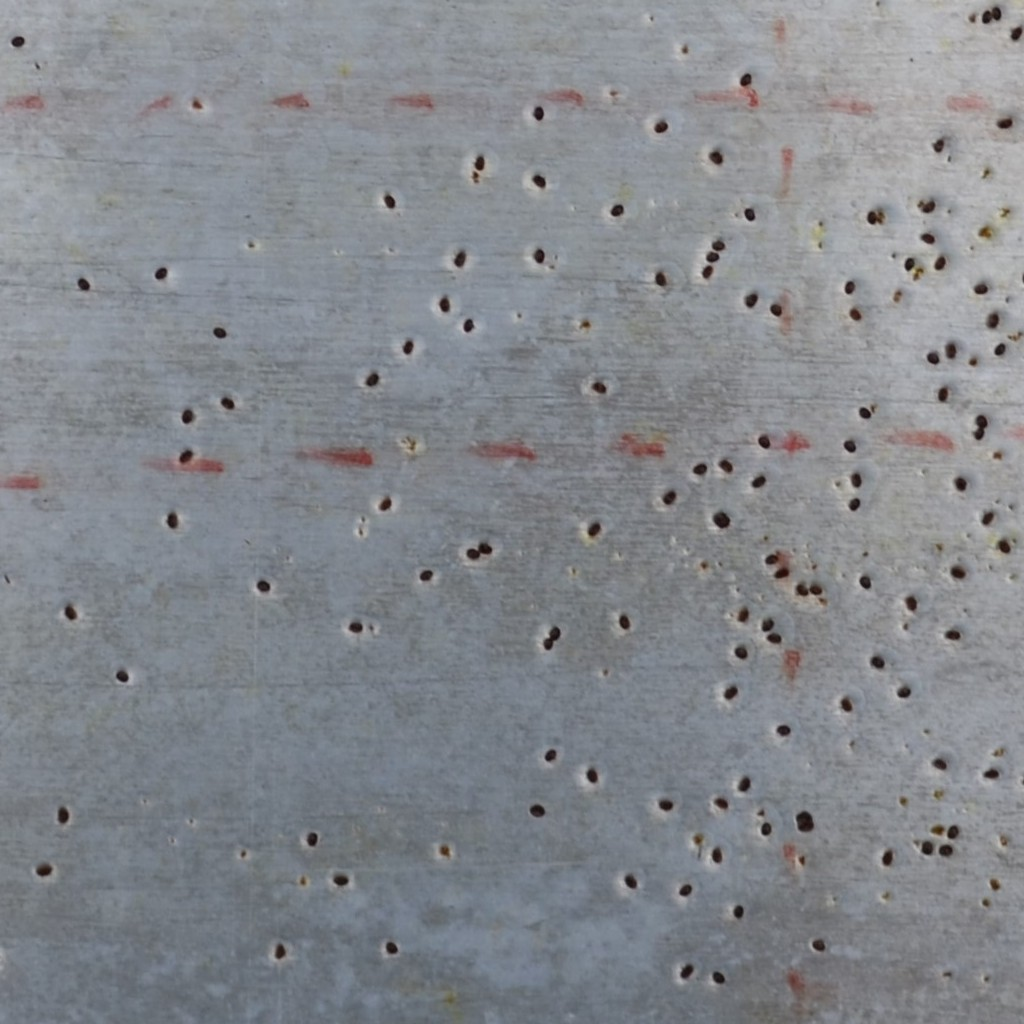varroa: (331, 864, 352, 891), (33, 856, 55, 881), (710, 508, 733, 531), (362, 366, 383, 388), (165, 508, 182, 534), (586, 517, 604, 541), (660, 488, 681, 508), (527, 801, 549, 820), (55, 802, 71, 828), (616, 610, 634, 633), (62, 600, 79, 624), (656, 796, 676, 816), (253, 575, 273, 595), (977, 507, 998, 526), (716, 455, 735, 476), (588, 378, 609, 397), (721, 682, 742, 701), (76, 274, 95, 295), (740, 203, 758, 225), (709, 966, 727, 988), (622, 868, 639, 891), (918, 836, 934, 860), (748, 470, 767, 490), (765, 628, 784, 648), (734, 772, 753, 792), (417, 564, 437, 583), (219, 394, 238, 414), (112, 666, 132, 685), (731, 642, 752, 660), (180, 406, 198, 427), (985, 308, 1002, 330), (742, 288, 759, 310), (707, 842, 724, 864), (936, 840, 955, 859), (707, 146, 726, 165), (690, 459, 709, 478), (7, 32, 26, 51), (918, 229, 938, 247), (949, 562, 969, 580), (930, 754, 948, 774), (210, 323, 230, 341), (347, 617, 367, 635), (738, 68, 755, 89), (794, 807, 815, 824), (653, 267, 669, 289), (531, 170, 547, 192), (452, 246, 468, 268), (531, 100, 545, 125), (839, 694, 854, 717), (762, 548, 781, 566), (677, 880, 695, 899), (994, 116, 1014, 133), (151, 264, 171, 281), (931, 253, 947, 274), (942, 626, 963, 642), (708, 794, 729, 810), (583, 763, 599, 784), (473, 149, 487, 173), (880, 847, 895, 869), (273, 940, 288, 962), (759, 616, 777, 634), (775, 720, 793, 738), (547, 623, 565, 641), (869, 651, 886, 670), (609, 201, 626, 220), (809, 936, 828, 953), (678, 961, 695, 980), (542, 746, 561, 763), (904, 591, 918, 614), (794, 820, 817, 834), (921, 196, 937, 216), (756, 431, 772, 451), (771, 566, 791, 582), (477, 539, 497, 555), (377, 493, 392, 514), (943, 339, 957, 361), (849, 469, 863, 491), (305, 828, 319, 850), (973, 411, 991, 428), (894, 682, 911, 700), (733, 606, 751, 623), (846, 495, 862, 514), (178, 447, 197, 463), (843, 436, 858, 456), (768, 299, 783, 319), (731, 901, 746, 921), (437, 294, 452, 314), (401, 334, 415, 355), (996, 538, 1013, 555), (653, 118, 670, 135), (807, 580, 823, 598), (465, 544, 481, 562), (1008, 23, 1023, 42), (972, 282, 991, 297), (863, 208, 878, 227), (531, 247, 546, 266), (946, 820, 960, 840), (700, 261, 714, 281), (462, 314, 476, 334), (382, 192, 398, 209), (971, 425, 986, 443), (953, 474, 967, 493), (936, 384, 949, 404), (540, 635, 556, 651), (385, 937, 401, 953), (902, 255, 917, 272), (925, 348, 940, 365), (848, 304, 863, 321), (705, 249, 722, 264), (759, 821, 774, 838), (710, 238, 728, 252), (980, 7, 993, 26), (858, 574, 873, 590), (842, 278, 857, 294), (982, 766, 999, 780), (993, 341, 1007, 357), (858, 403, 872, 419), (793, 580, 807, 596), (991, 4, 1002, 22)
